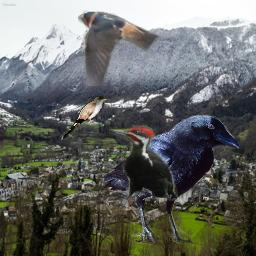Crow: (104, 115, 240, 246)
Cuckoo: (61, 96, 109, 140)
Swallow: (78, 8, 160, 86)
Woodpecker: (109, 122, 178, 205)
